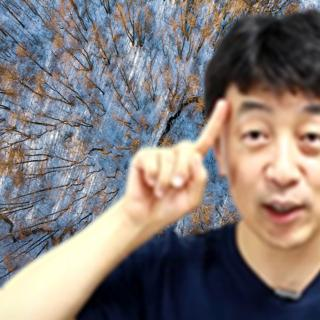IRRITATED: (121, 97, 233, 232)
